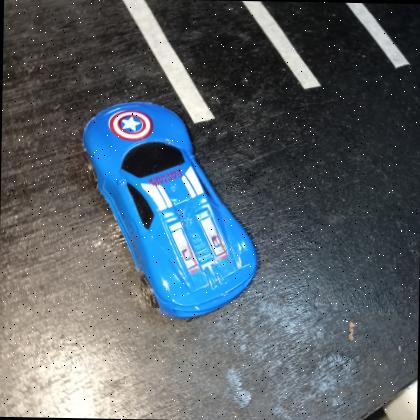Car: (82, 102, 258, 320)
